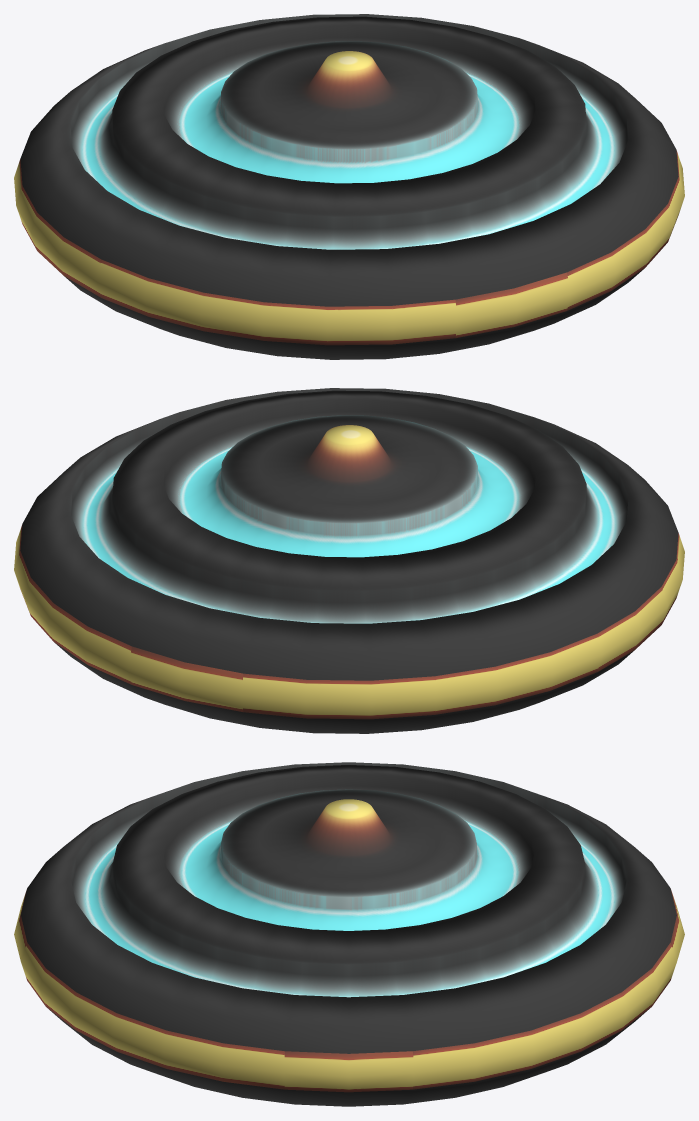
The model's file is mine_final.FBX.
3 renders of one model, top to bottom at view 1: azimuth 30°, elevation 25°; view 2: azimuth 150°, elevation 25°; view 3: azimuth 270°, elevation 25°, orthographic.
Parts seen in each view (by area): view 1: Sphere001; view 2: Sphere001; view 3: Sphere001.
Part boxes in pixels (x1=…): Sphere001: x1=14, y1=14, x2=684, y2=359; Sphere001: x1=14, y1=388, x2=684, y2=733; Sphere001: x1=14, y1=762, x2=684, y2=1106.
Bounding box in the file's own units: 118 × 49.33 × 118.
